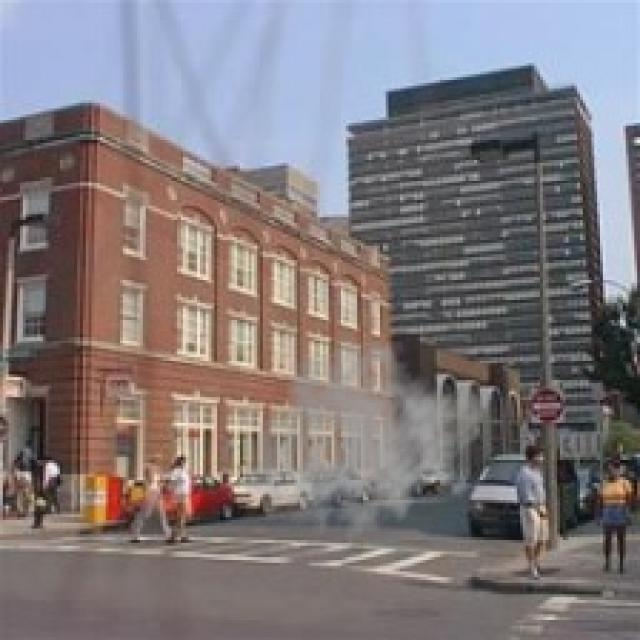Smoke: (241, 328, 488, 558)
